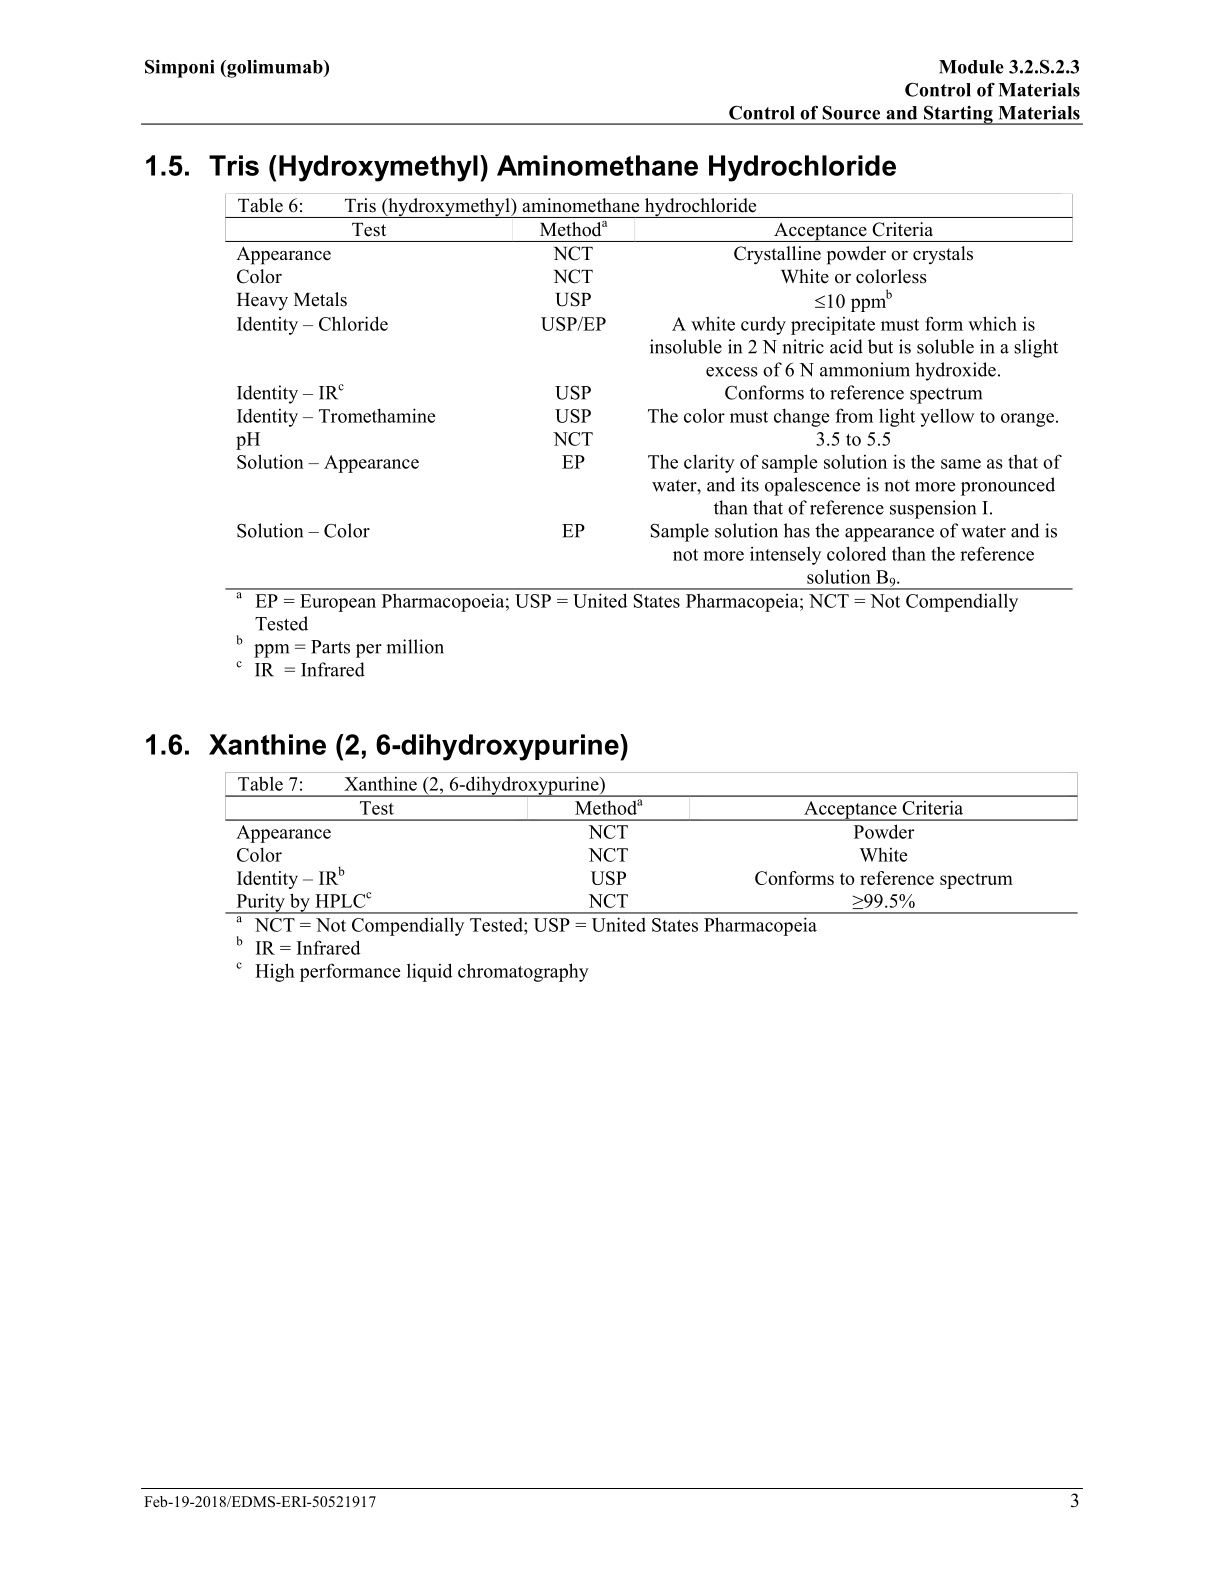partial_lined: (224, 213, 1076, 591), (225, 793, 1079, 915)
